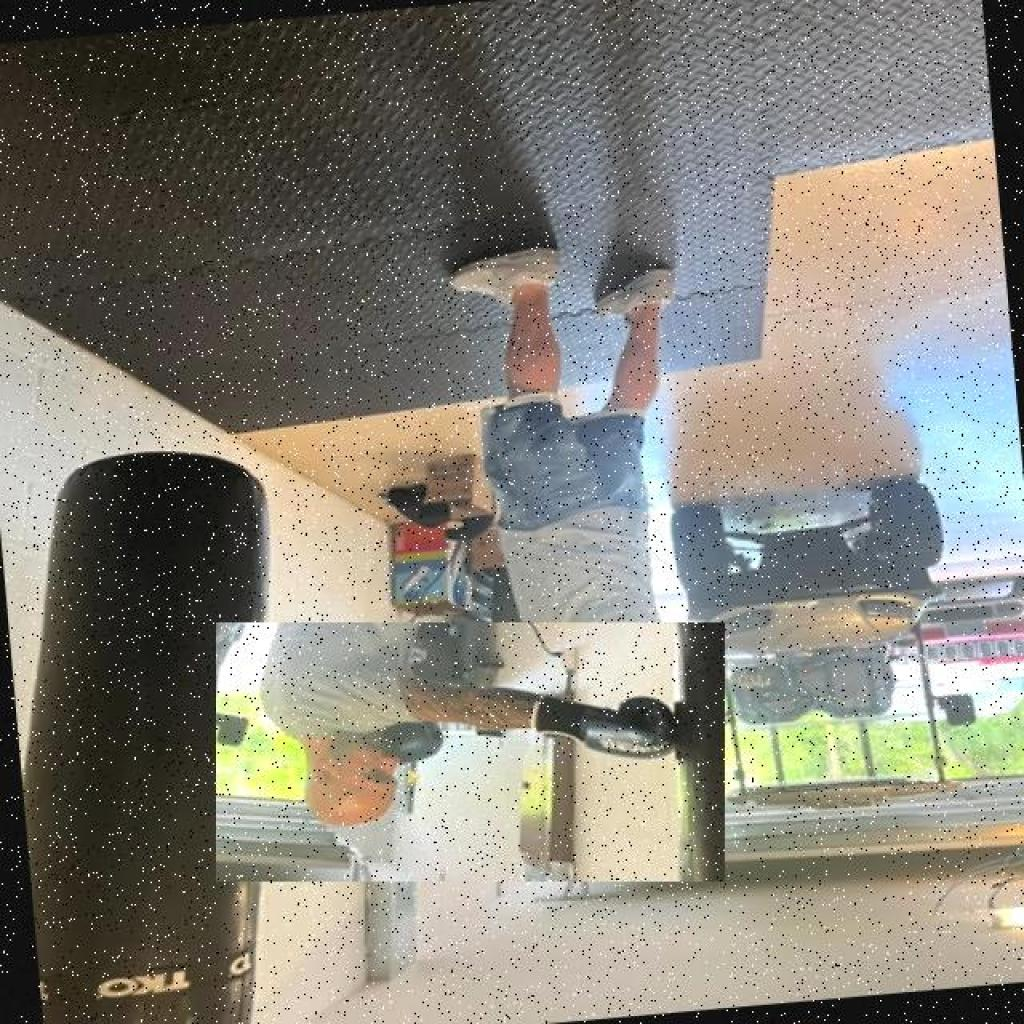jab: (216, 622, 725, 882)
